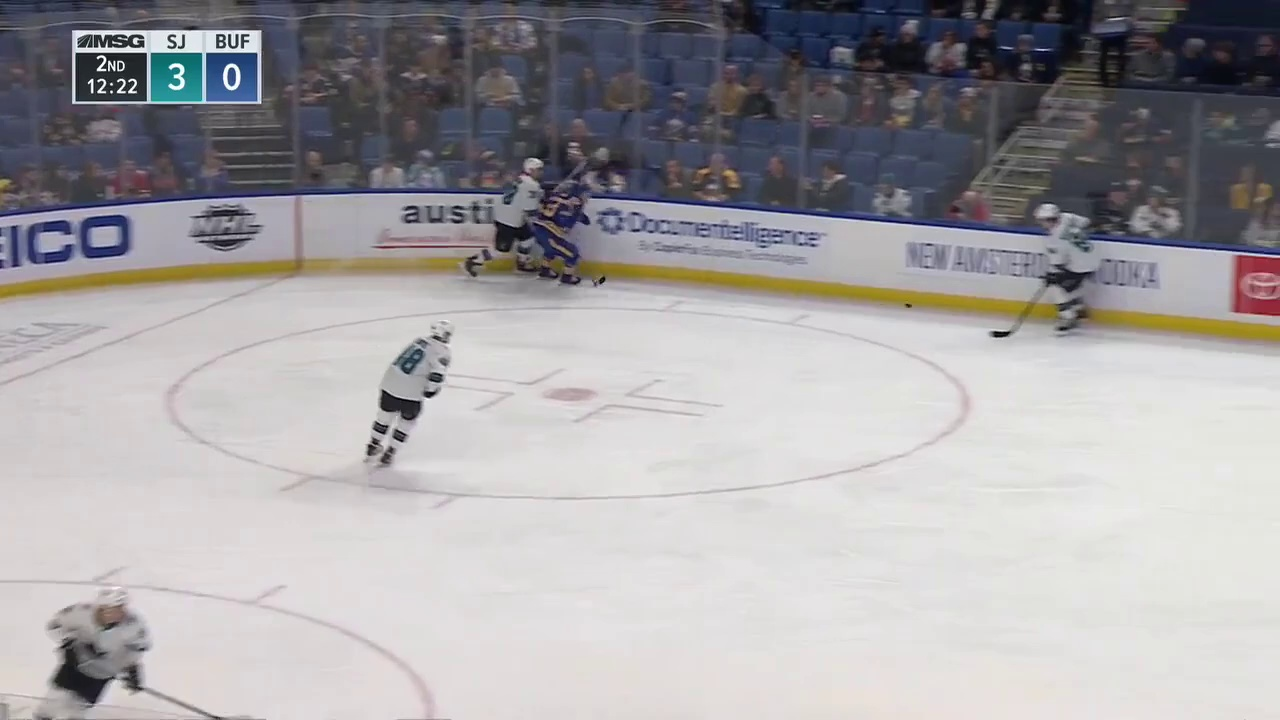hockeyplayer: (34, 585, 151, 720), (363, 320, 453, 469), (458, 157, 544, 277), (1033, 203, 1099, 336), (533, 183, 590, 286)
